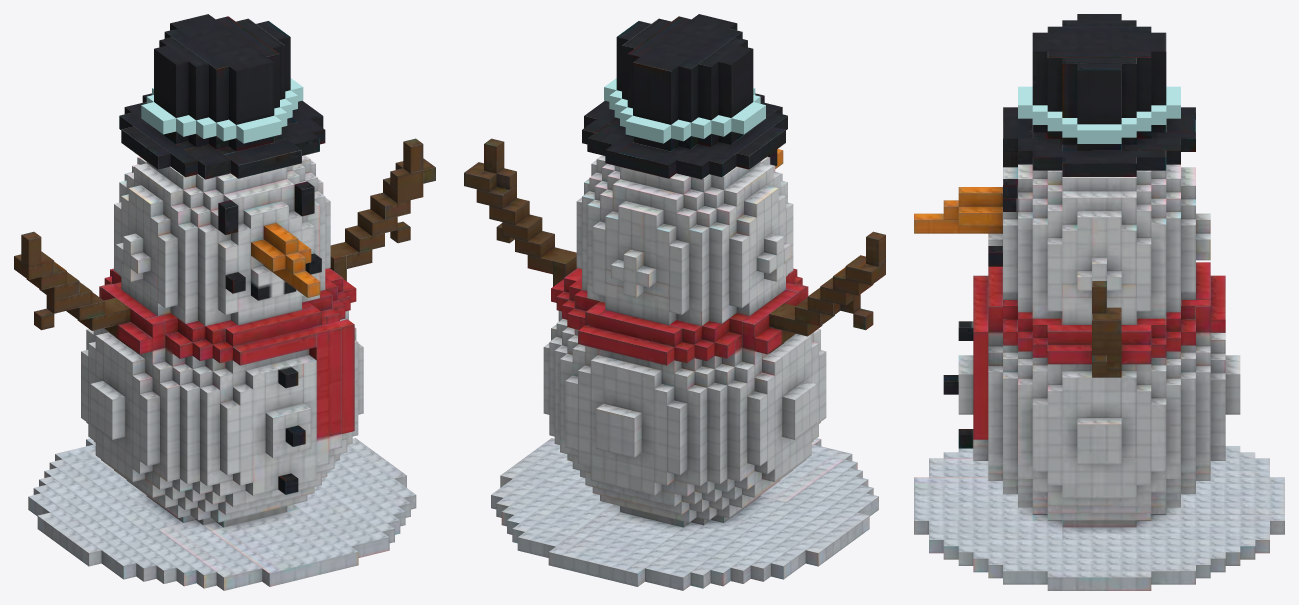
File: snowman.glb
The picture shows the model from 3 angles, left to right: view 1: azimuth 30°, elevation 25°; view 2: azimuth 150°, elevation 25°; view 3: azimuth 270°, elevation 25°; orthographic projection.
Visible parts, largest first — view 1: Body.013, Glow.012; view 2: Body.013, Glow.012; view 3: Body.013, Glow.012.
Boxes of the visible parts, x1,y1,x2,y2 form: Body.013: (14,14,435,590); Glow.012: (141,78,303,143); Body.013: (464,14,885,590); Glow.012: (604,78,765,143); Body.013: (914,14,1284,590); Glow.012: (1018,86,1180,143).
Bounding box in the file's own units: 4.8 × 5.25 × 3.75.
Materials: 2 (1 with a texture image).
